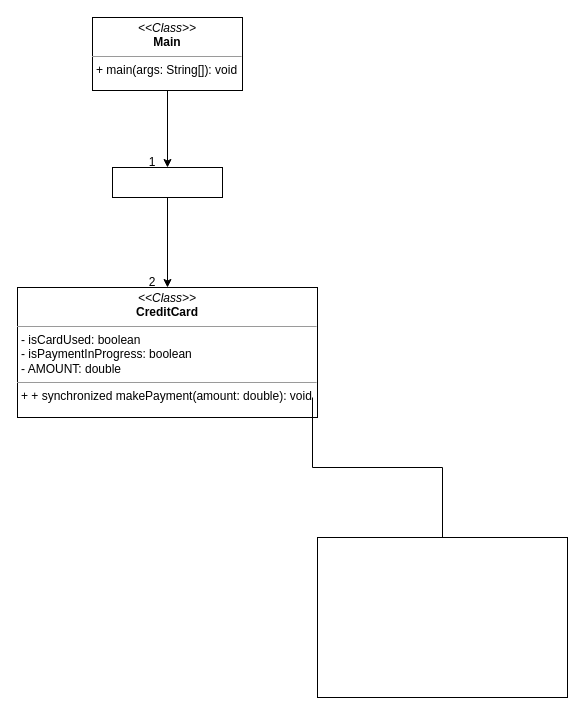
The diagram is 585 pixels wide and 715 high, and some of its shapes have lost their labels. The centre of each missing label's shape, as x and y in pixels:
"<<Thread>>" goes at point (167, 182).
"Balking pattern: Проверьте, может ли операция быть выполнена" goes at point (442, 617).
